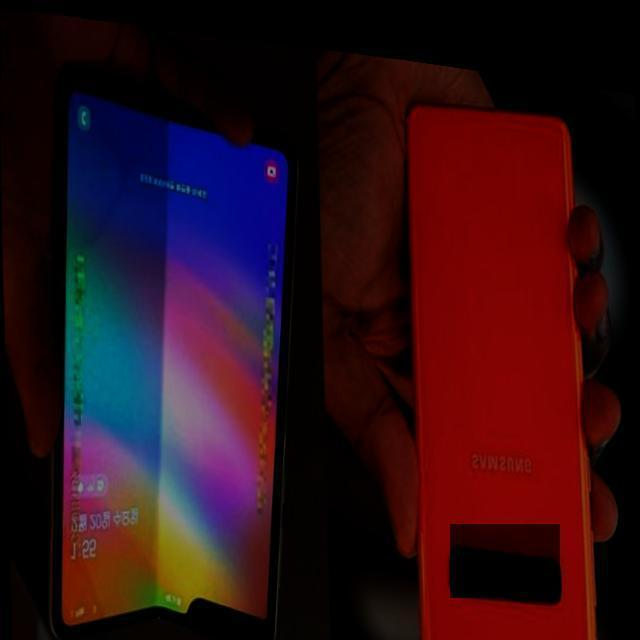phone: (56, 88, 296, 634), (398, 99, 602, 637)
